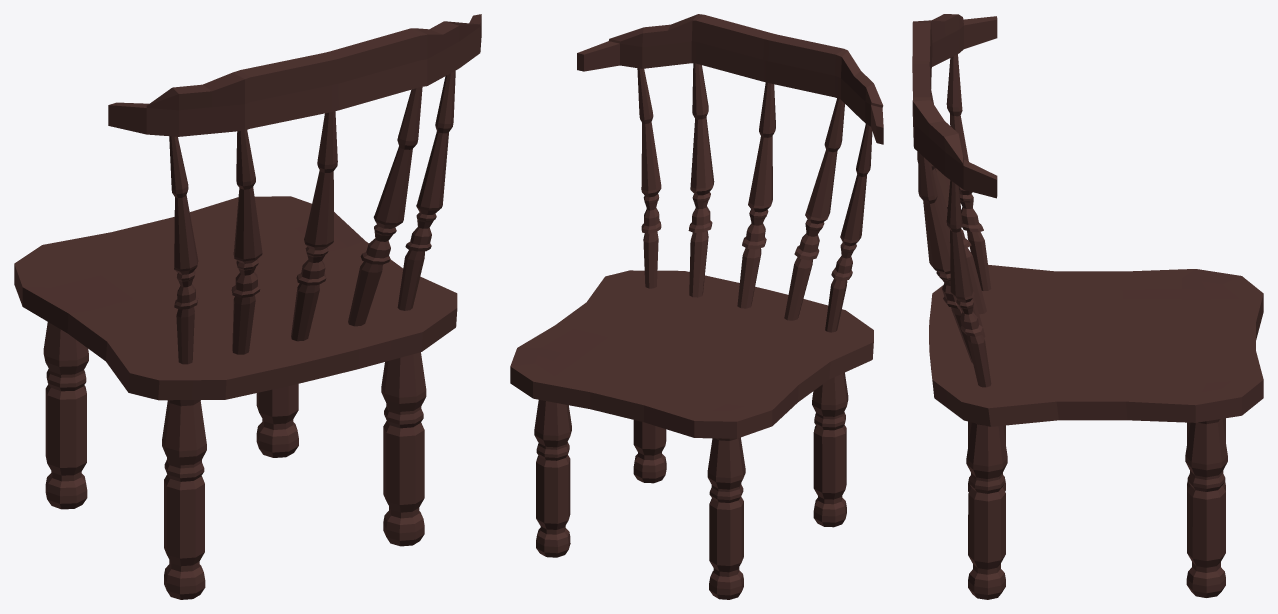
Rendered from cadeira.fbx.
3 renders of one model, left to right at view 1: azimuth 30°, elevation 25°; view 2: azimuth 150°, elevation 25°; view 3: azimuth 270°, elevation 25°, orthographic. The views are drawn at different scales.
Parts seen in each view (by area): view 1: CADEIRA; view 2: CADEIRA; view 3: CADEIRA.
Part boxes in pixels (x1,y1,x2,y2): CADEIRA: (14,14,481,599); CADEIRA: (510,14,883,599); CADEIRA: (912,14,1263,599).
Size of the model in its own units: 132 by 183 by 120.
